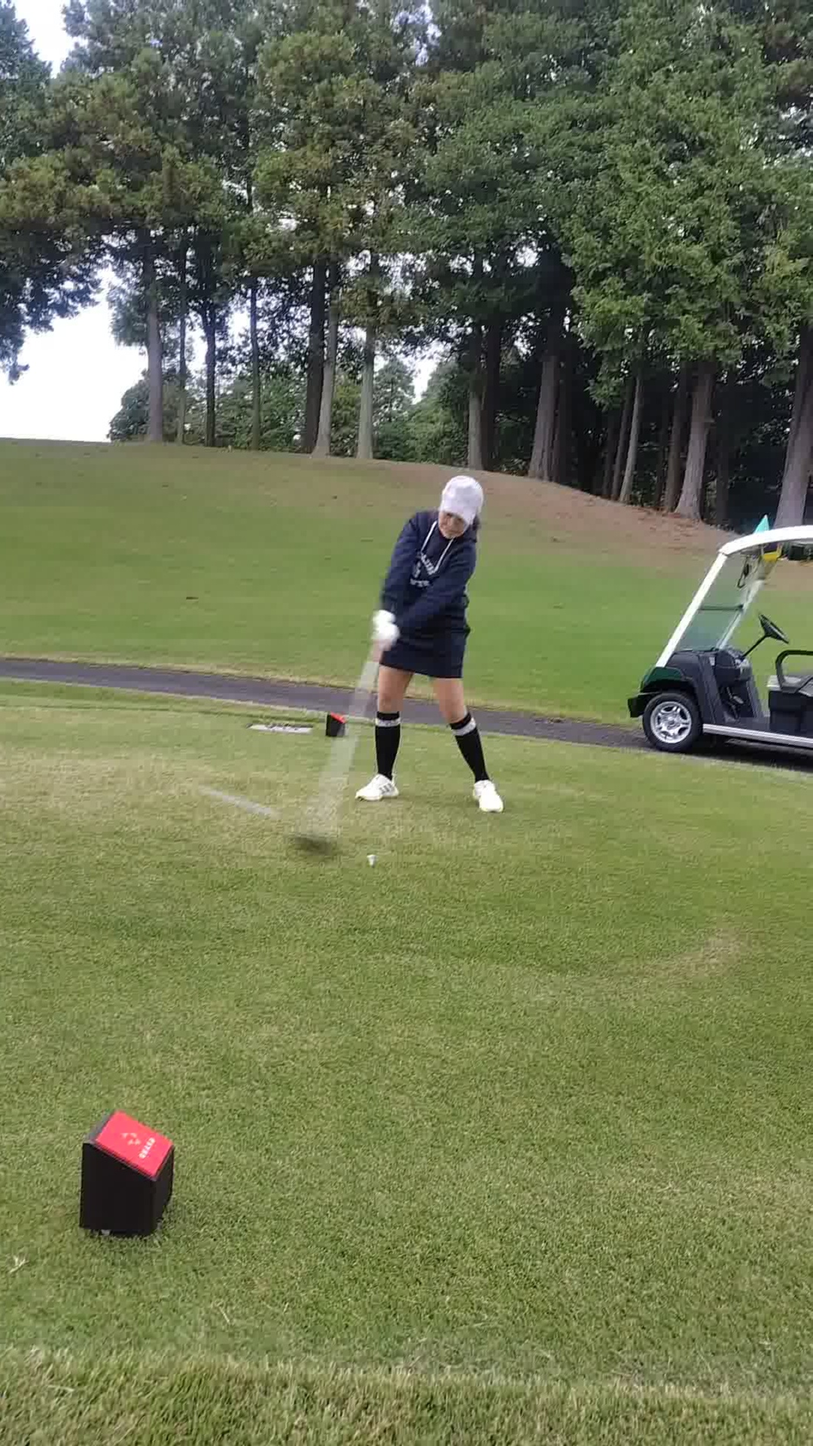clubhead: (200, 793, 420, 895)
